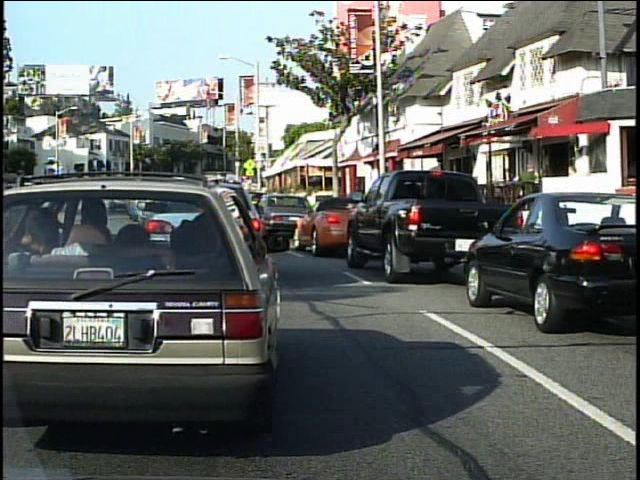person: (517, 157, 542, 225)
